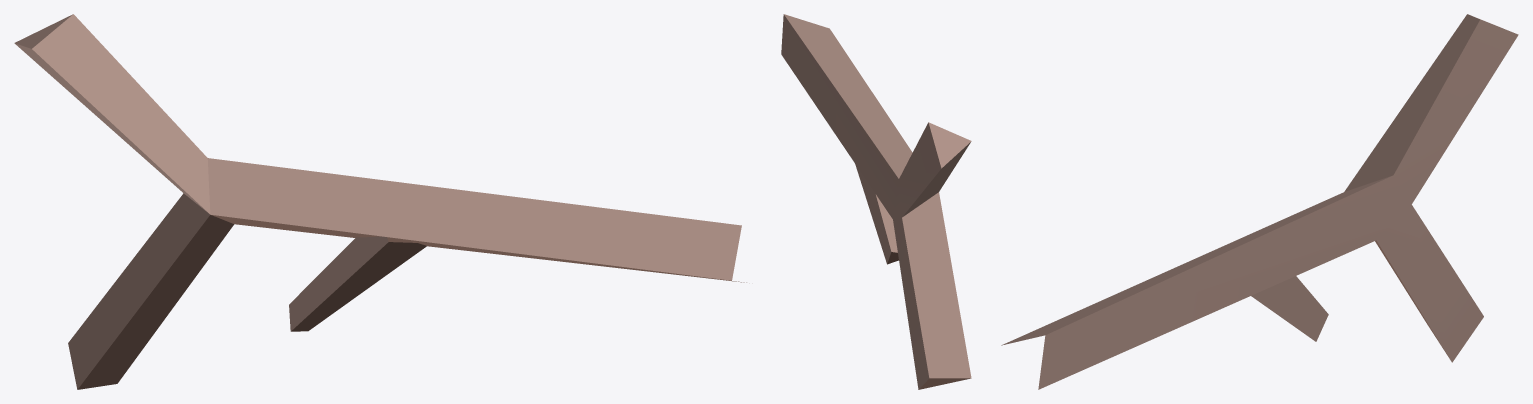
Rendered from HolidaySnowManRightArm.glb.
3 views of the same model, side by side, from view 1: azimuth 30°, elevation 25°; view 2: azimuth 150°, elevation 25°; view 3: azimuth 270°, elevation 25° (orthographic). The views are drawn at different scales.
Parts seen in each view (by area): view 1: HolidaySnowManRightArm; view 2: HolidaySnowManRightArm; view 3: HolidaySnowManRightArm.
Boxes of the visible parts, x1=… form: HolidaySnowManRightArm: x1=14, y1=14, x2=746, y2=389; HolidaySnowManRightArm: x1=781, y1=14, x2=971, y2=389; HolidaySnowManRightArm: x1=1001, y1=14, x2=1518, y2=389.
Bounding box in the file's own units: 0.2336 × 0.1686 × 0.2395.
